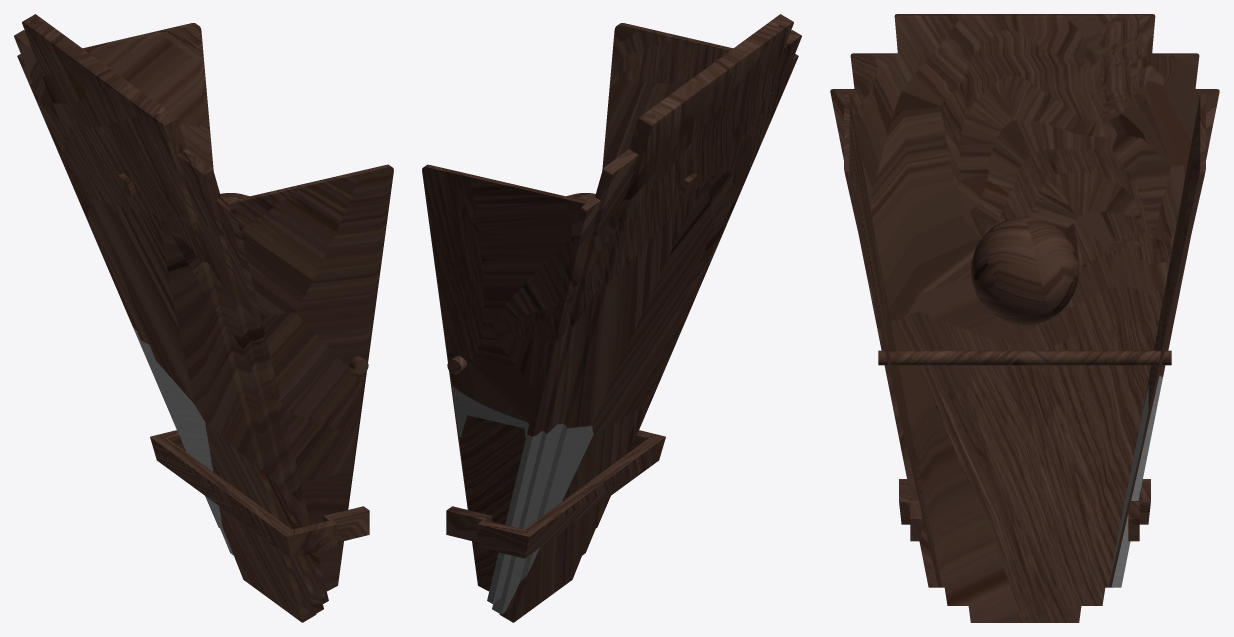
File: WallLight.obj
3 renders of one model, left to right at view 1: azimuth 30°, elevation 25°; view 2: azimuth 150°, elevation 25°; view 3: azimuth 270°, elevation 25°, orthographic. The views are drawn at different scales.
Visible parts, largest first — view 1: Cube.070_Cube.000_Cube.070_Cube.000; view 2: Cube.070_Cube.000_Cube.070_Cube.000; view 3: Cube.070_Cube.000_Cube.070_Cube.000.
Part boxes in pixels (x1,y1,x2,y2): Cube.070_Cube.000_Cube.070_Cube.000: (14, 14, 393, 622); Cube.070_Cube.000_Cube.070_Cube.000: (422, 14, 801, 622); Cube.070_Cube.000_Cube.070_Cube.000: (830, 14, 1219, 622).
Size of the model in its own units: 0.3941 by 1.01 by 0.6733.
